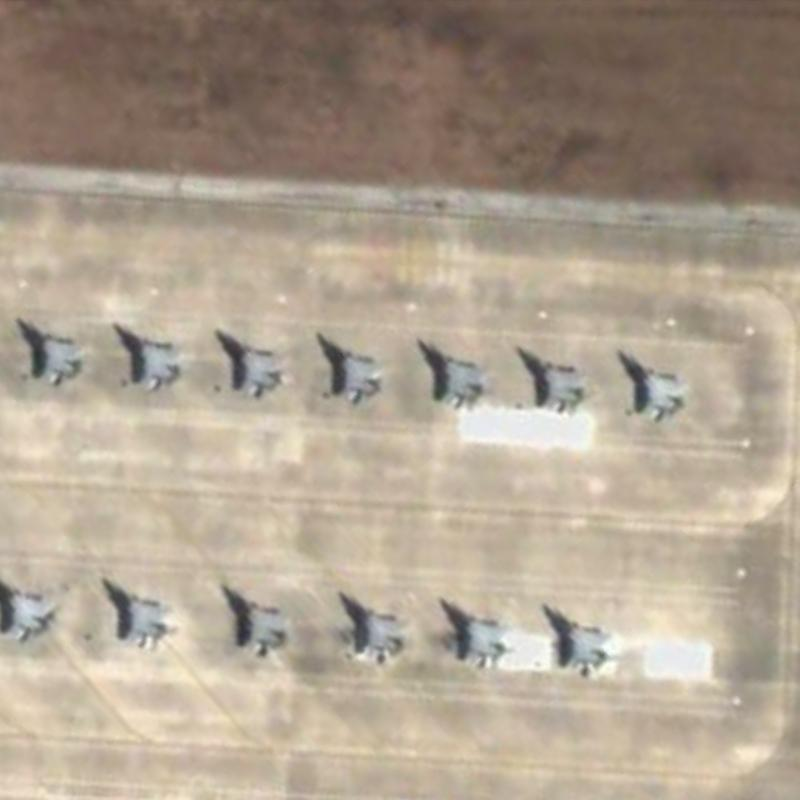A13: (333, 583, 413, 668), (219, 580, 297, 662), (436, 592, 513, 673), (540, 598, 615, 681), (102, 572, 179, 652), (212, 323, 289, 401), (619, 344, 690, 427), (512, 339, 588, 416), (112, 321, 188, 397), (12, 312, 87, 388), (317, 328, 388, 407), (418, 336, 491, 411), (0, 570, 61, 646)
